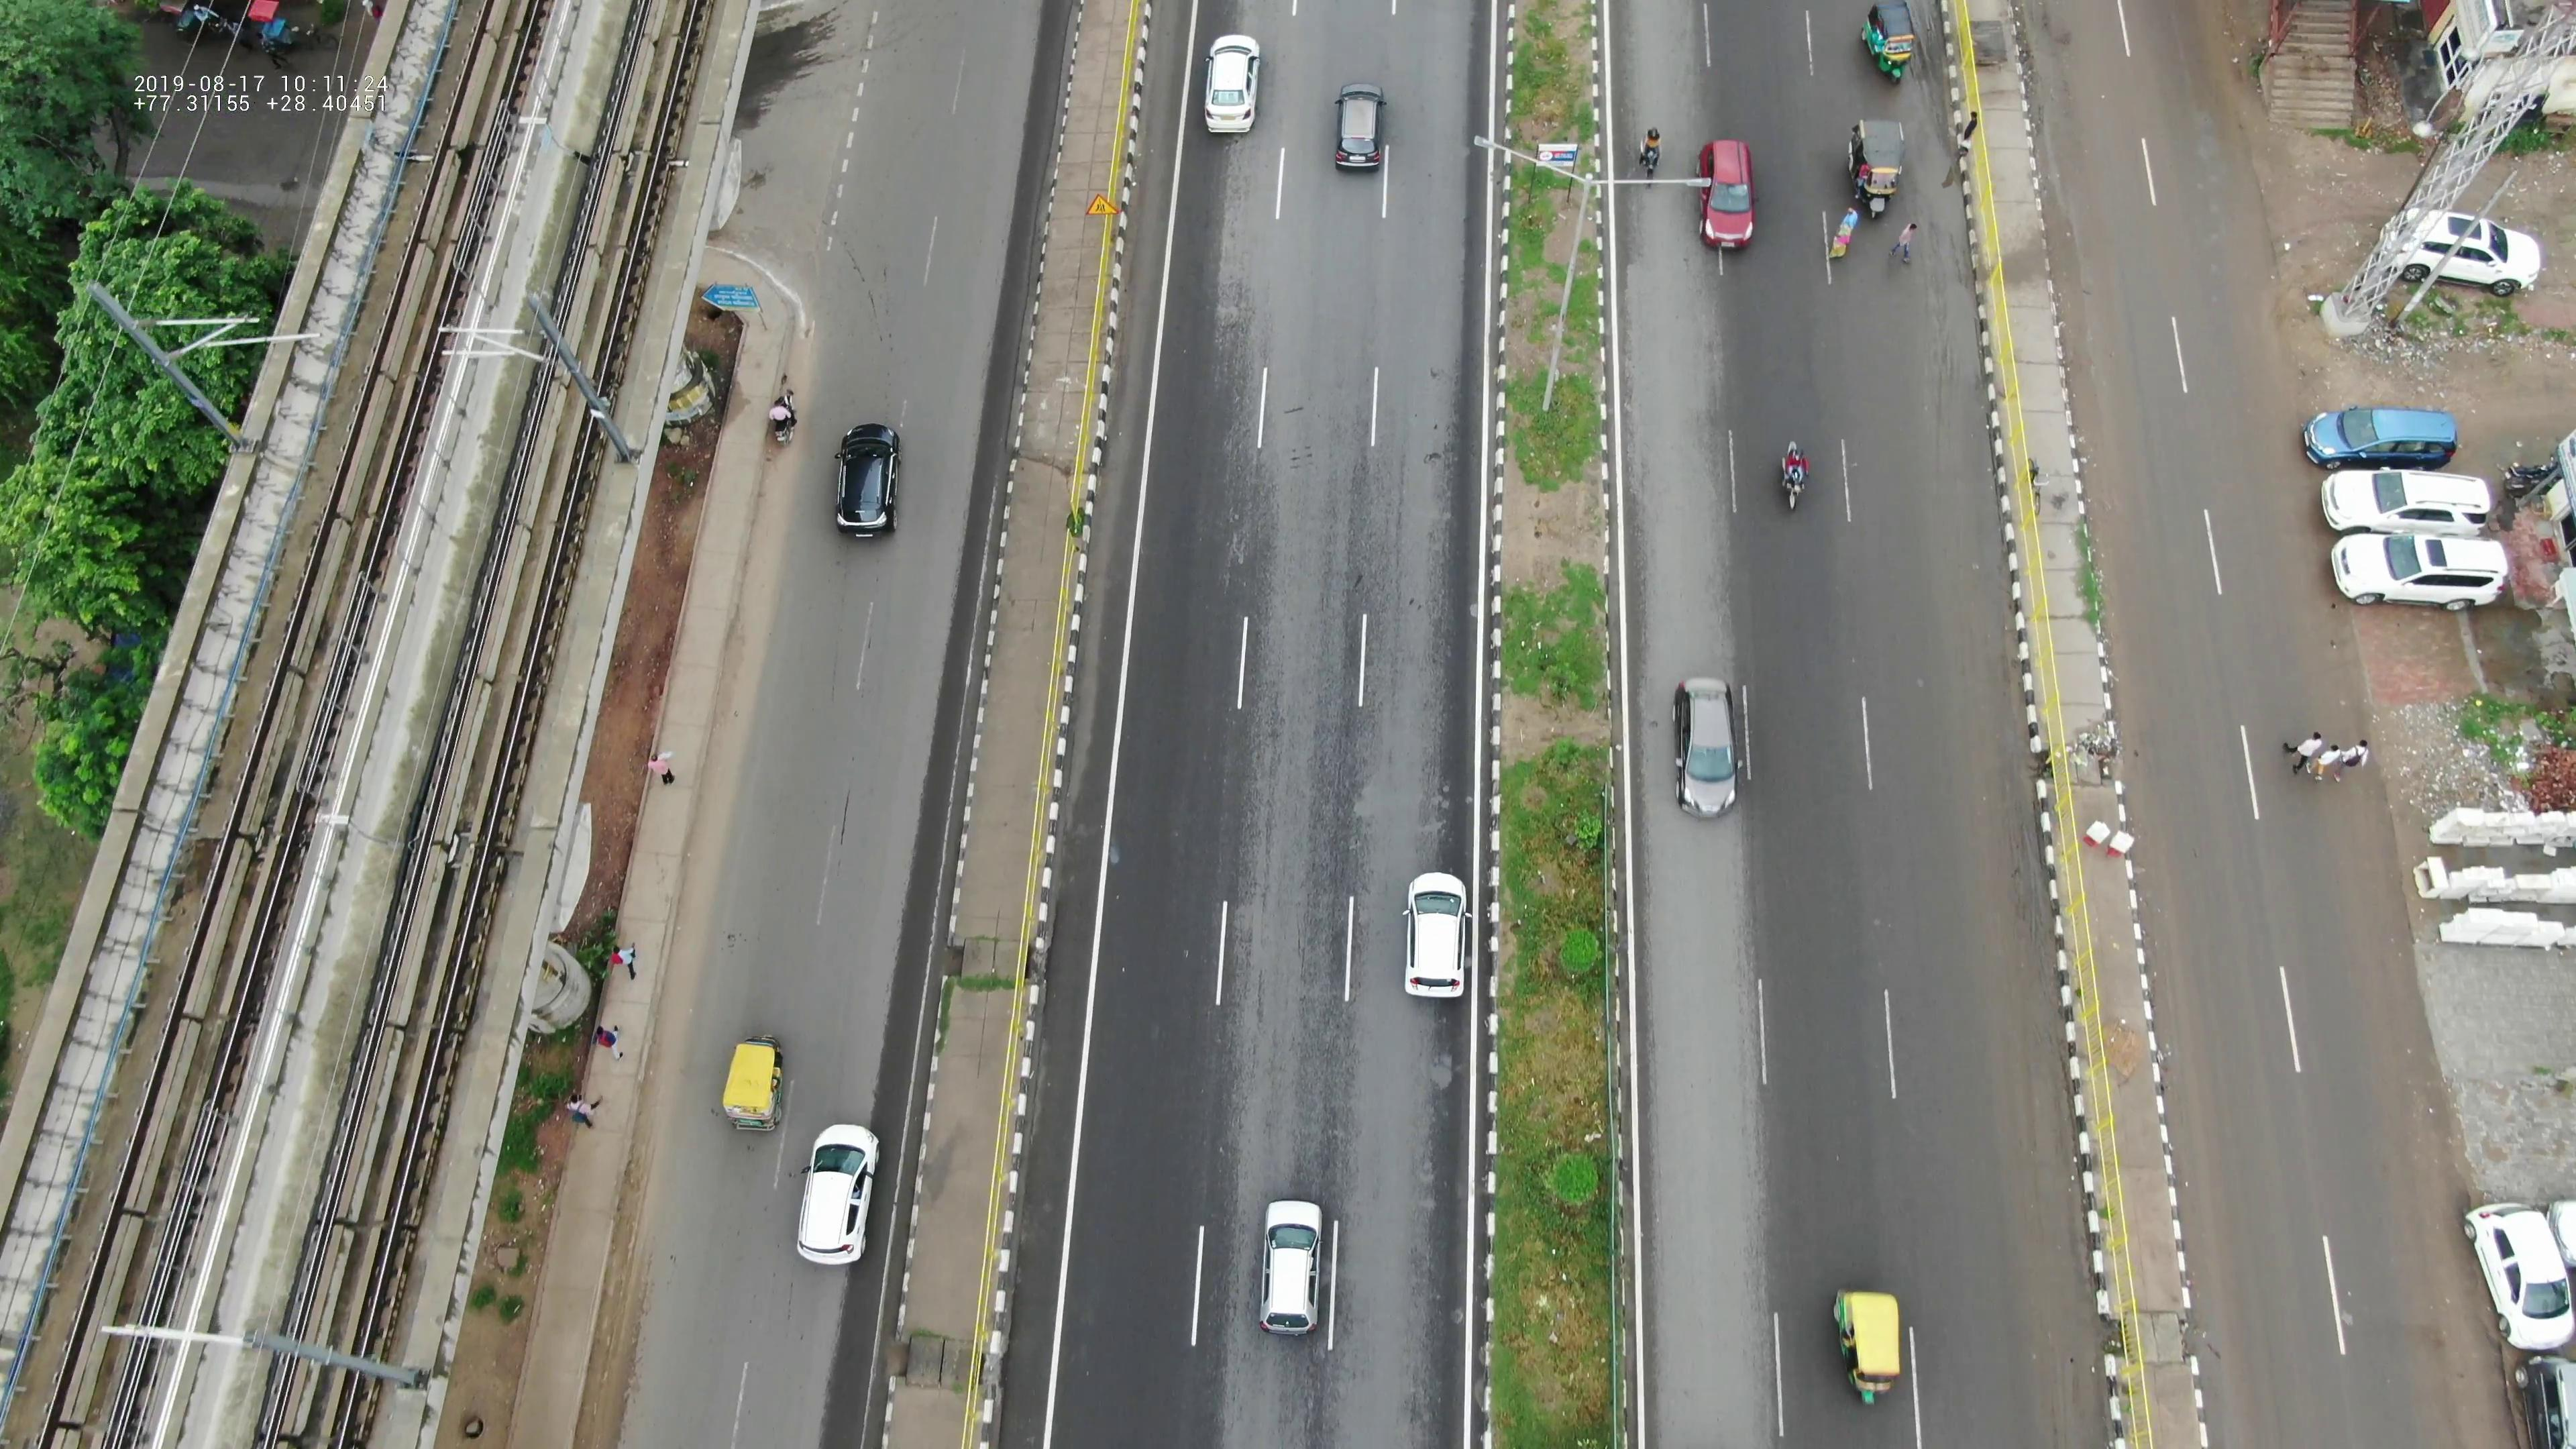Muddy_road: (1967, 943, 2072, 1210), (2403, 1256, 2505, 1438), (2082, 290, 2181, 456), (2038, 94, 2128, 249), (2249, 327, 2311, 405)
